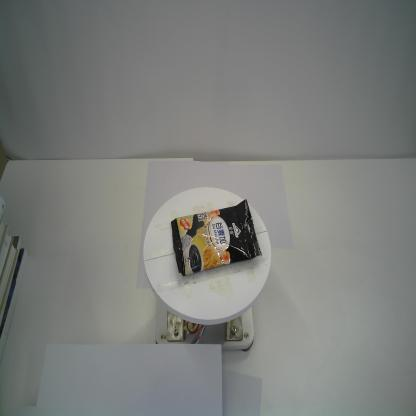Instant Drink: (170, 198, 262, 276)
